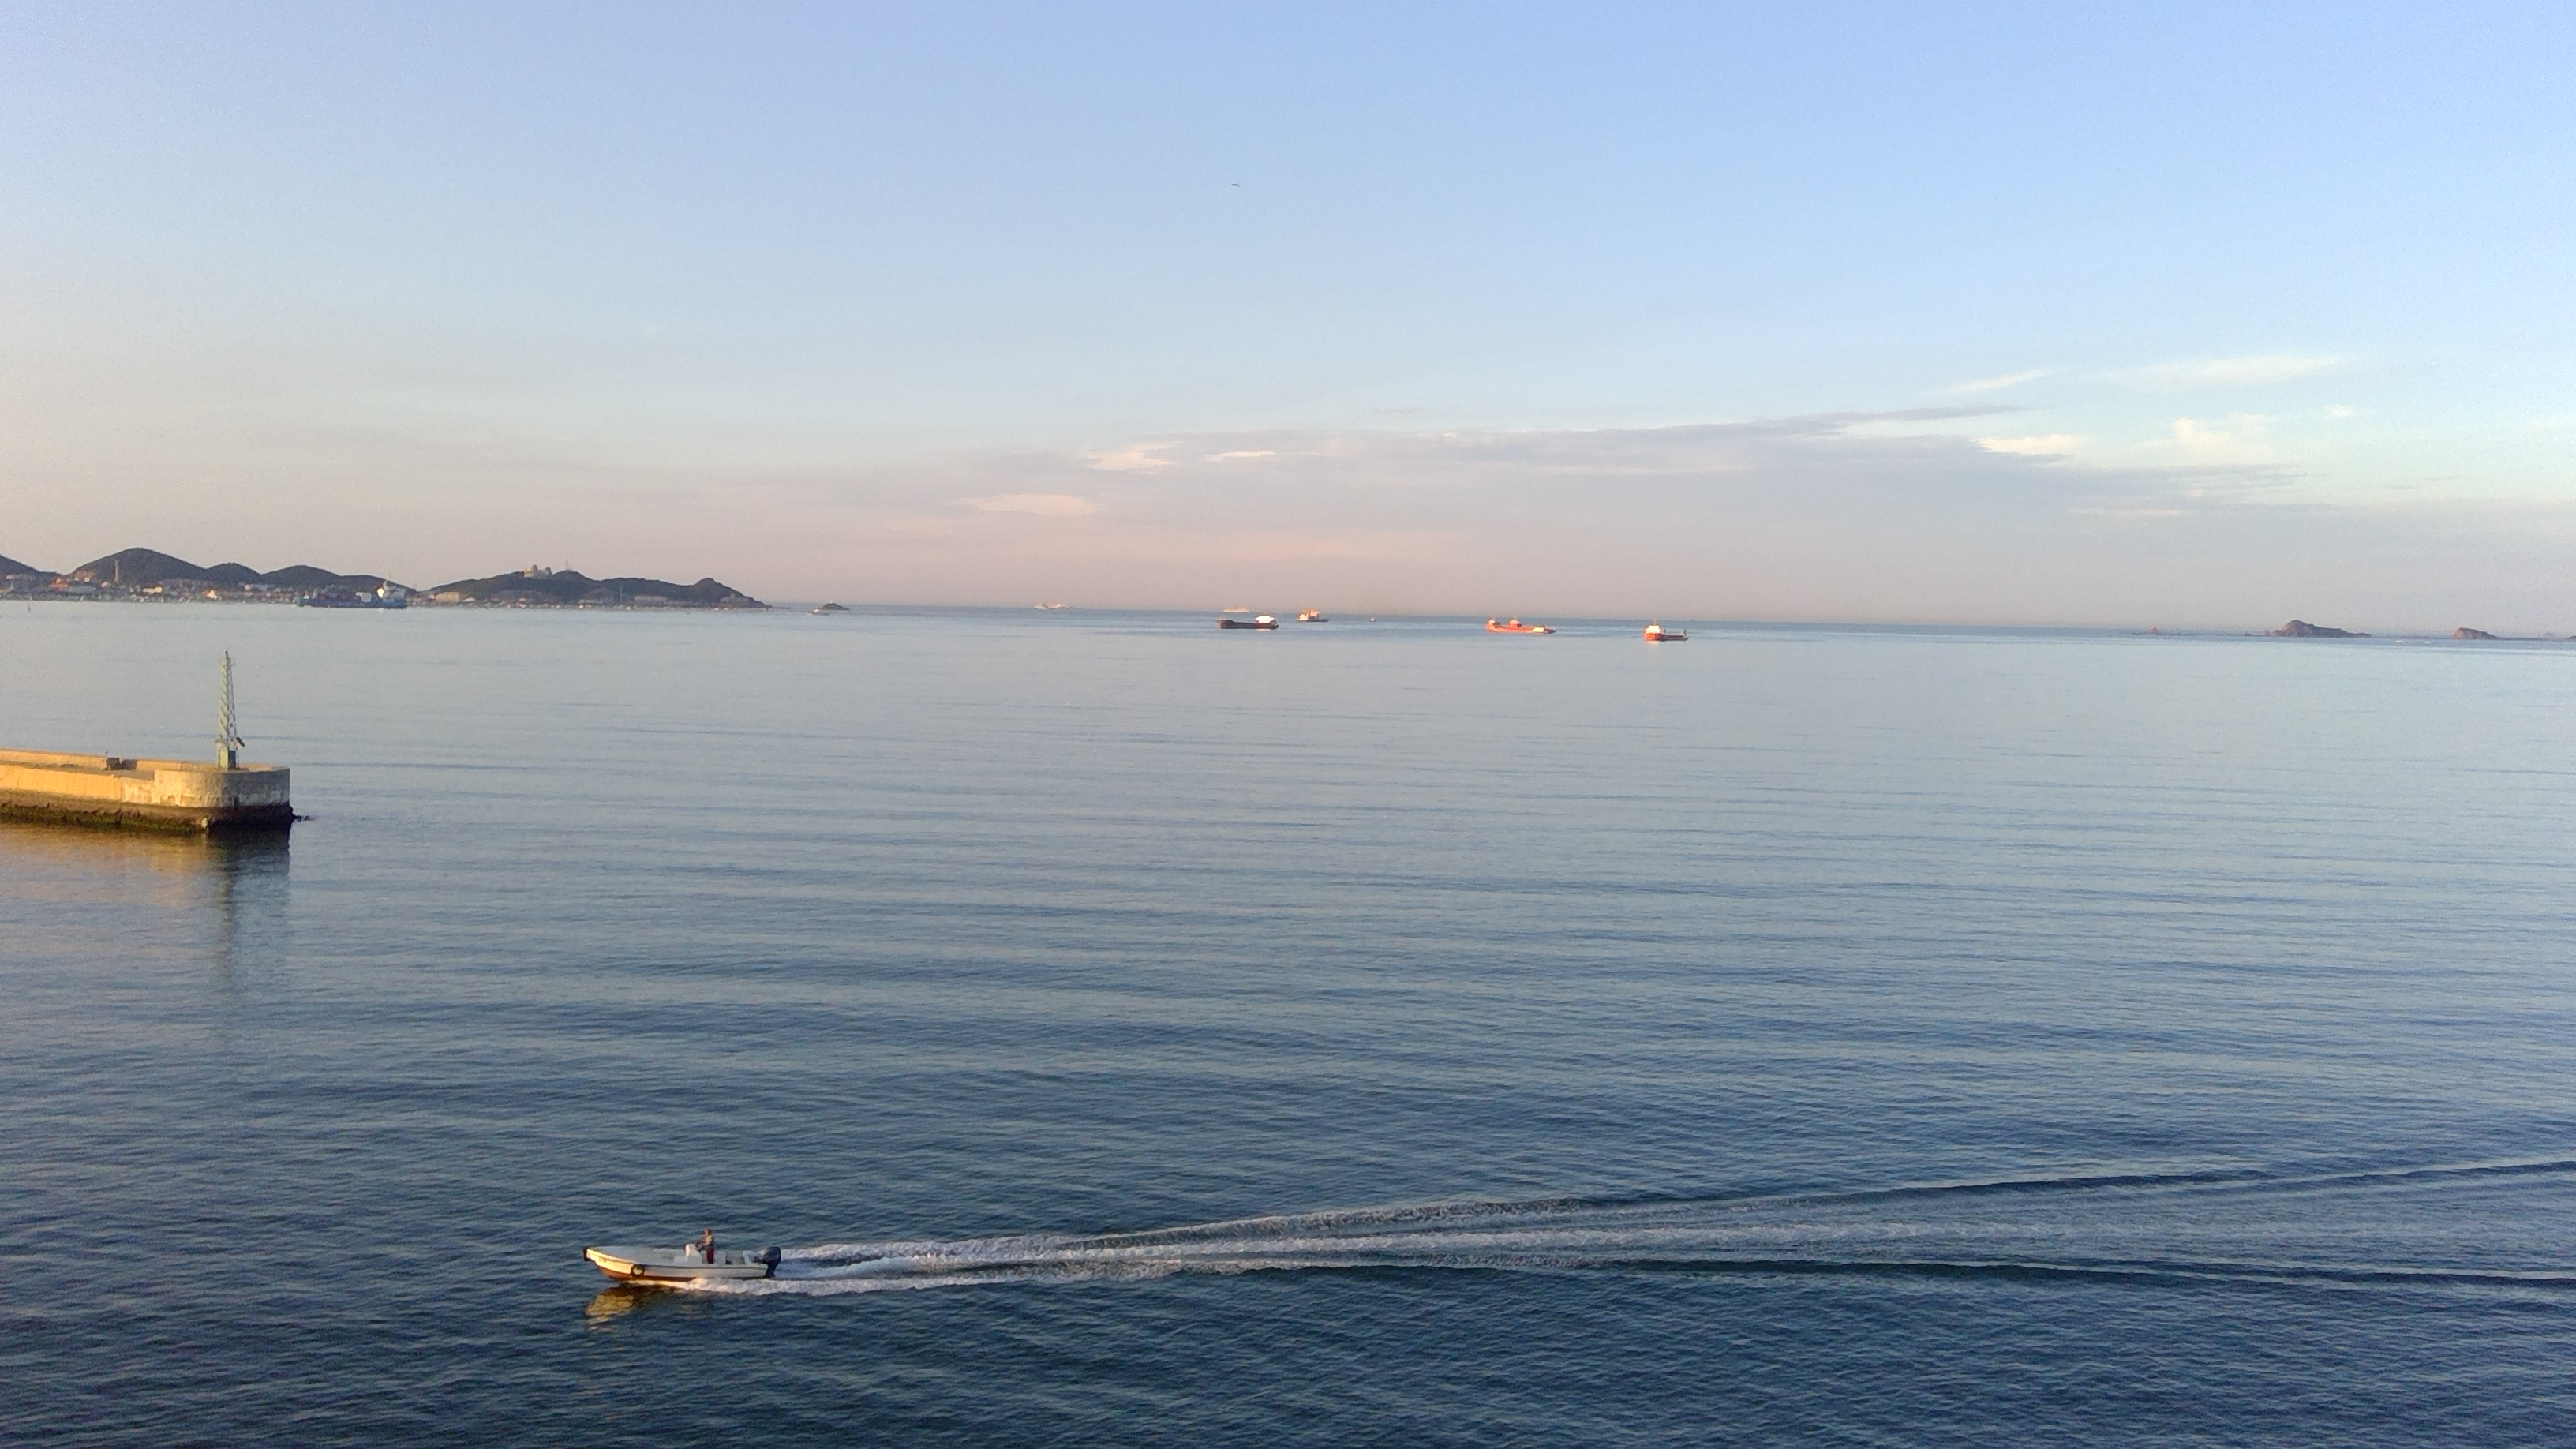boat: (571, 1212, 784, 1302)
harbor: (0, 660, 333, 863)
rock: (81, 527, 414, 609), (432, 554, 777, 614), (2, 517, 69, 602), (2273, 619, 2360, 646), (2452, 616, 2489, 648)
ship: (1476, 610, 1550, 642), (1212, 609, 1283, 639), (1642, 612, 1695, 648)
